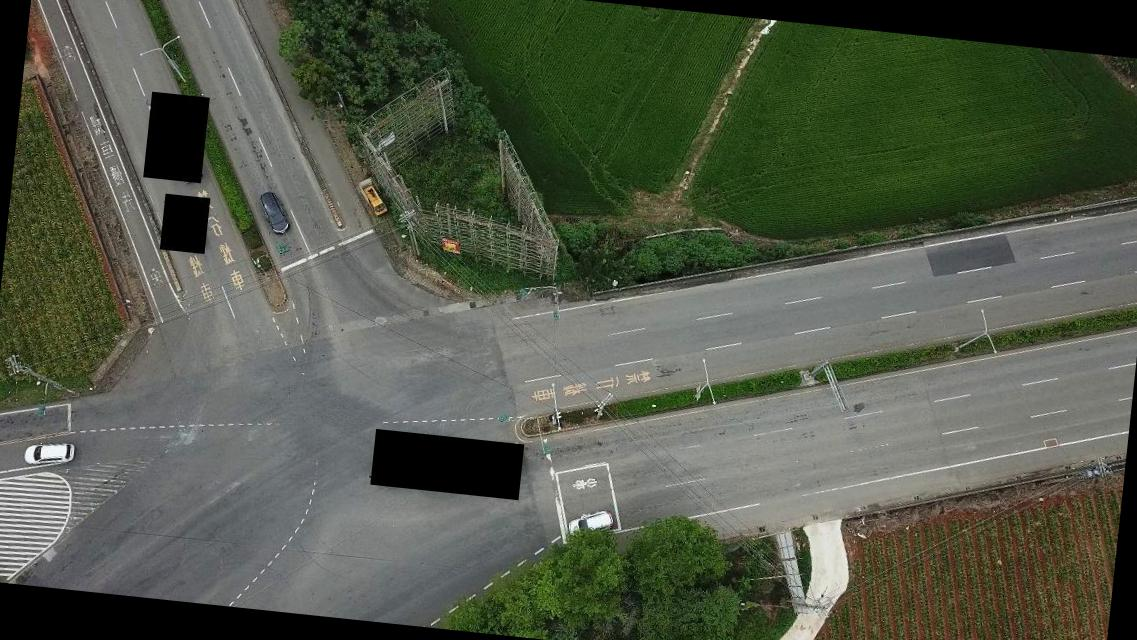vehicle: (565, 502, 616, 545), (258, 190, 294, 238), (22, 438, 75, 470), (361, 181, 389, 215)
